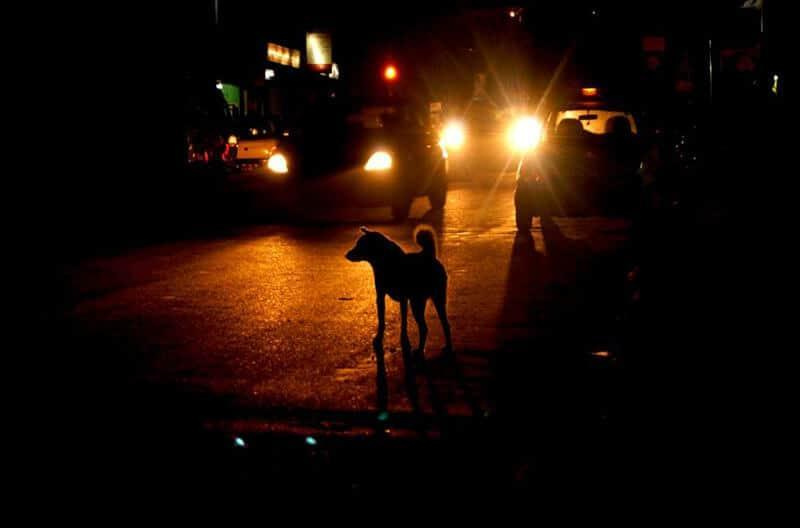normal_dogs: (347, 223, 468, 363)
